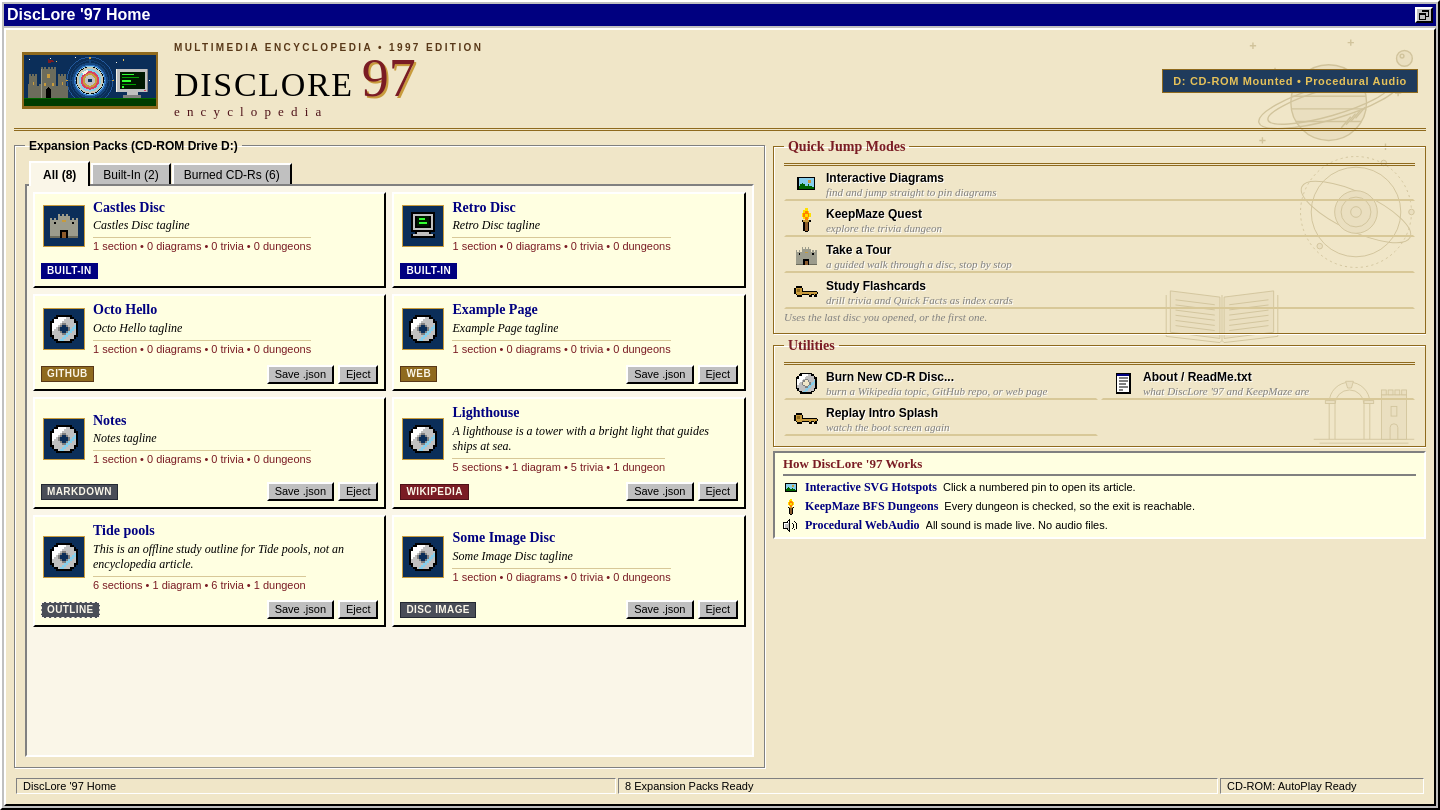
Scenario: Expansion Pack tabs › filters the shelf and keeps the panel labelled by the active tab
Click the tab "Built-In (2)": [131, 173] box [91,163,171,184]
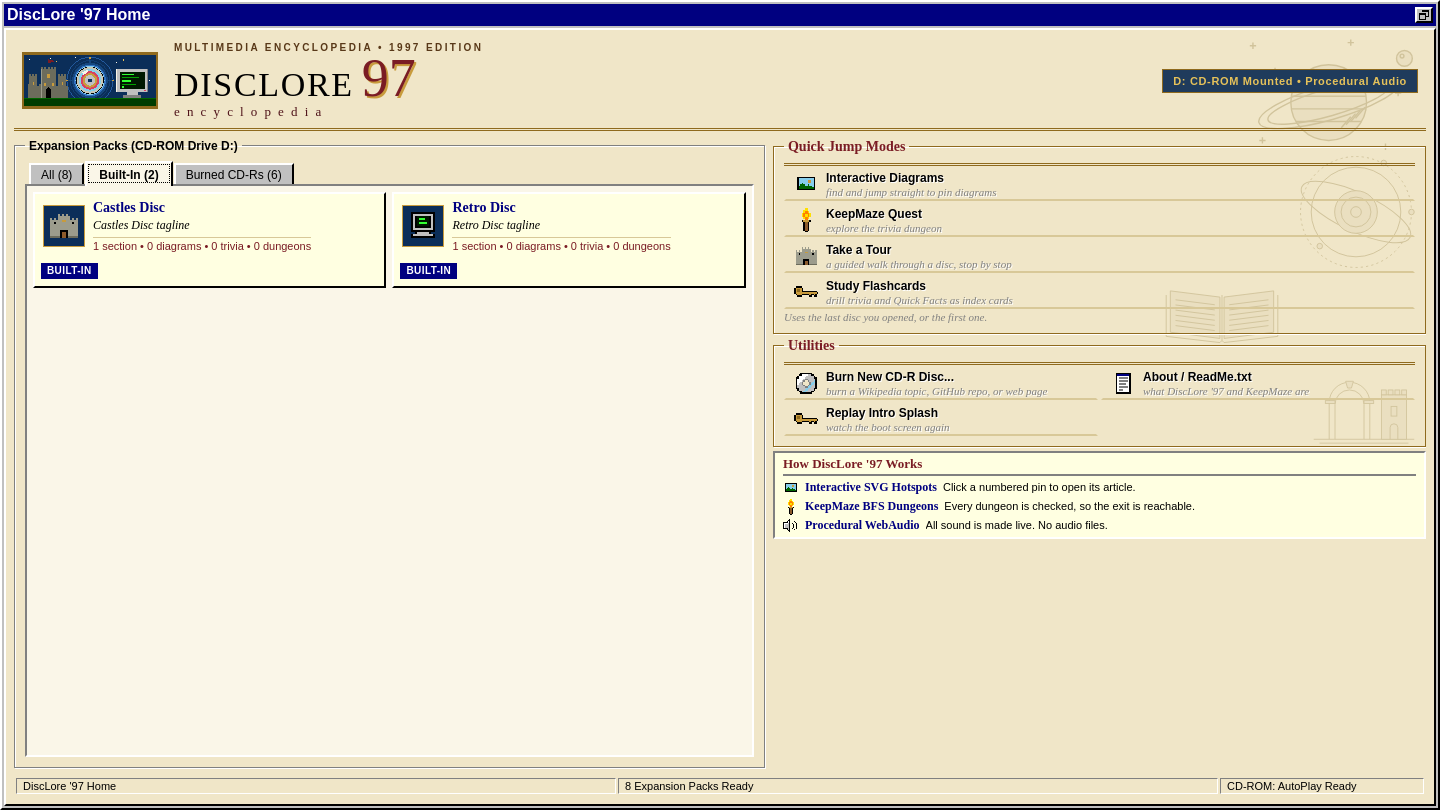
Now the tab "Built-In (2)" is selected, box [85,161,173,186]
Now the tab "All (8)" is not selected, box [29,163,84,184]
Click the tab "Burned CD-Rs (6)": [234, 173] box [174,163,294,184]
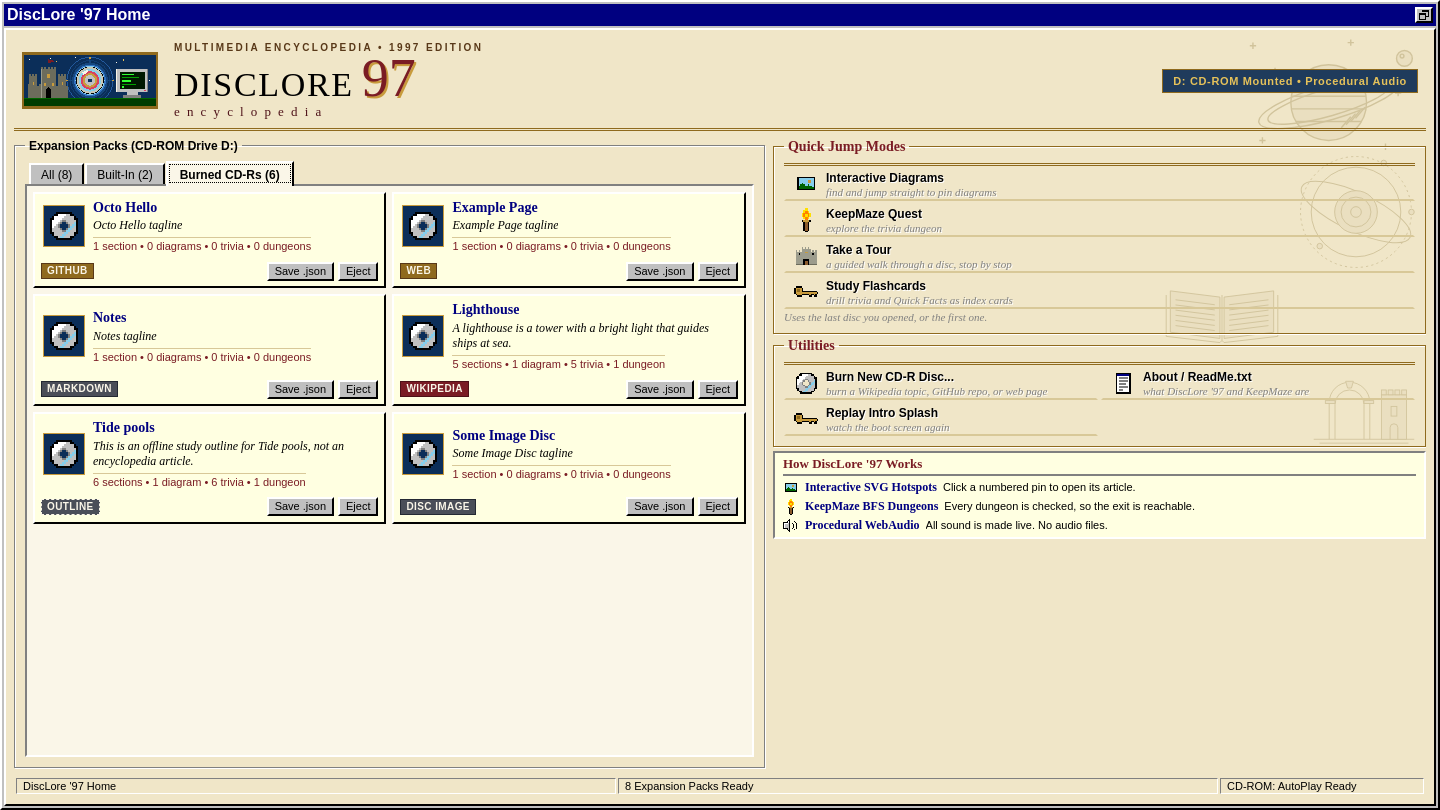
Click the tab "All (8)": [57, 173] box [29,163,84,184]
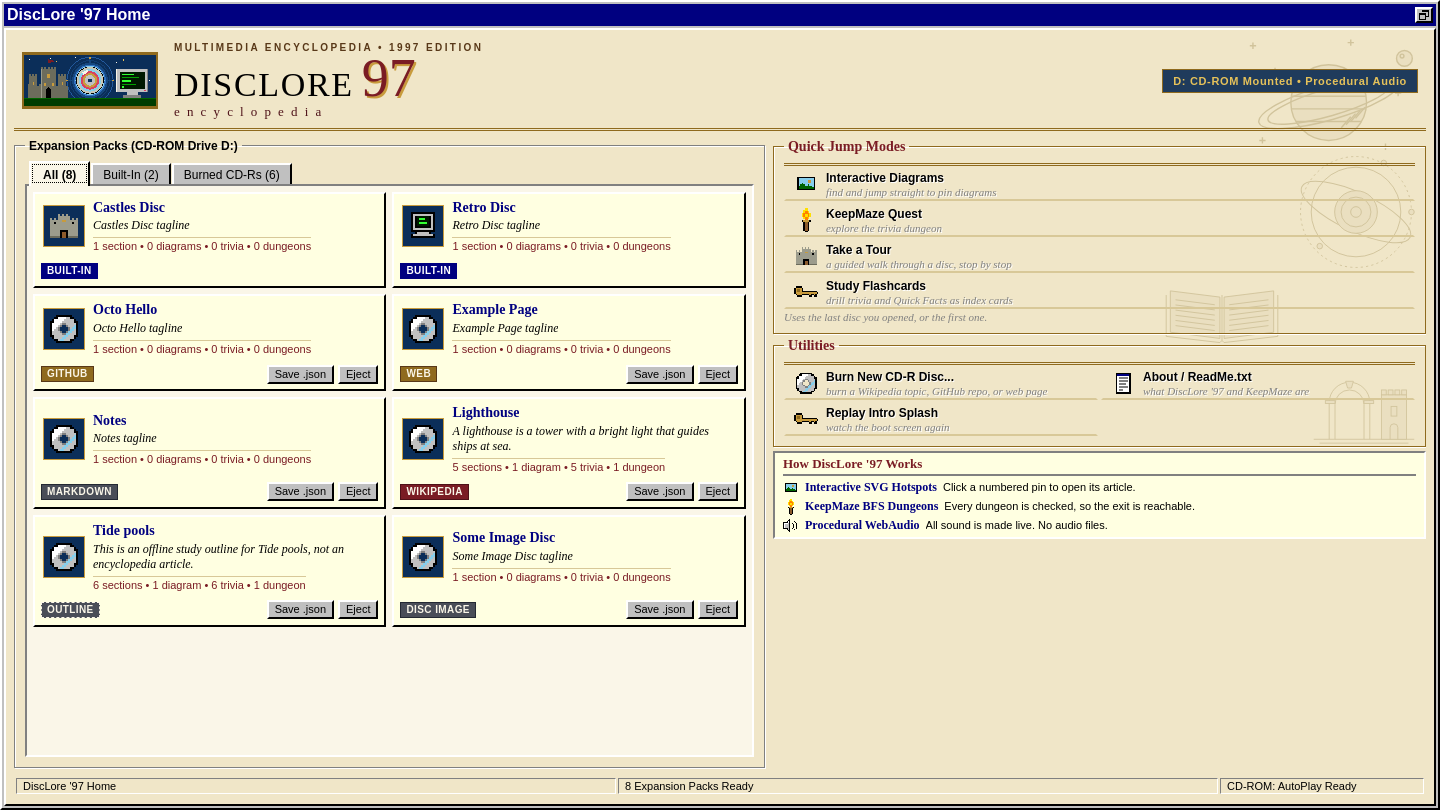
Now the number of list items is 8
